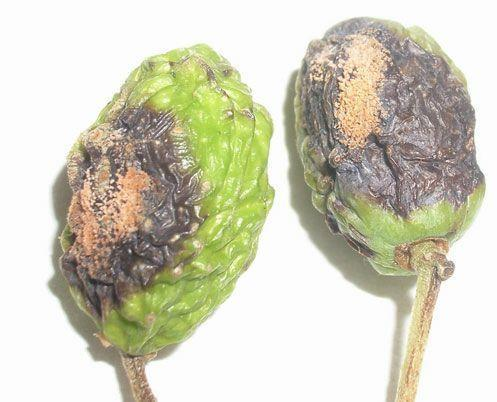Anthracnose: (54, 38, 279, 356), (287, 14, 489, 274)
